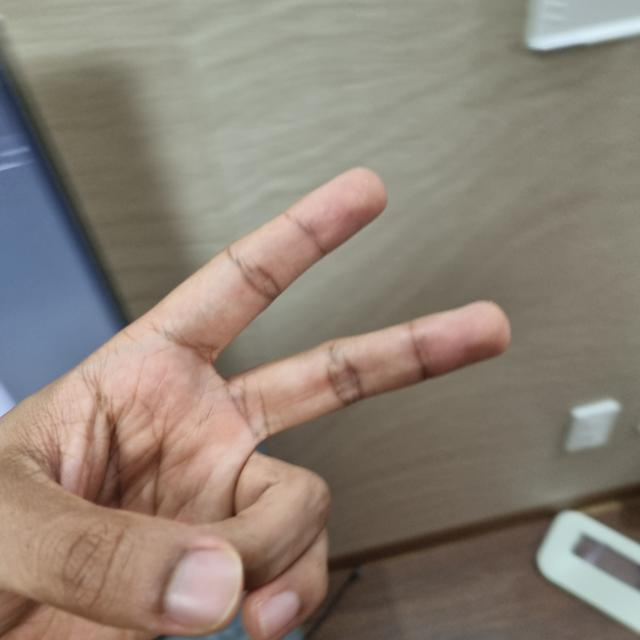Scissors: (0, 169, 505, 639)
